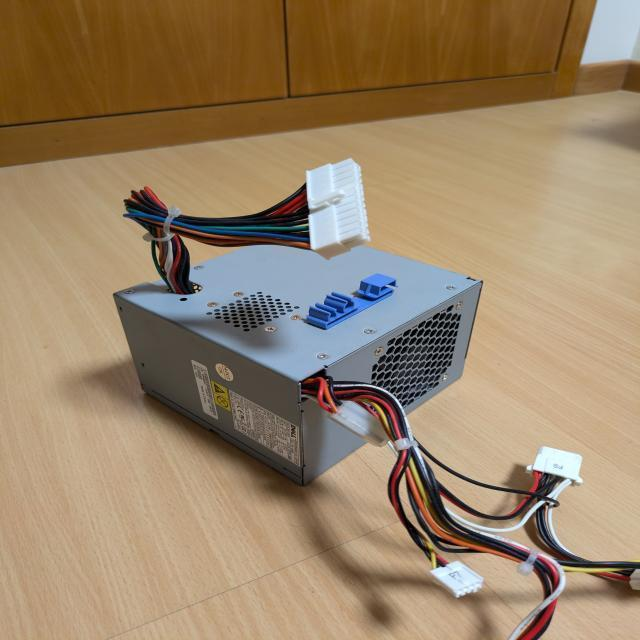PSU: (110, 224, 484, 489)
